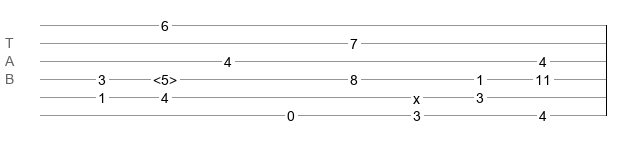0: (287, 108, 295, 118)
1: (98, 90, 106, 100), (476, 72, 484, 82)
11: (535, 72, 551, 82)
3: (98, 72, 106, 82), (413, 108, 421, 118), (476, 90, 484, 100)
4: (161, 90, 169, 100), (224, 54, 232, 64), (539, 54, 547, 64), (539, 108, 547, 118)
6: (161, 18, 169, 28)
7: (350, 36, 358, 46)
8: (350, 72, 358, 82)
harmonic: (153, 72, 177, 82)
x: (413, 91, 420, 99)
